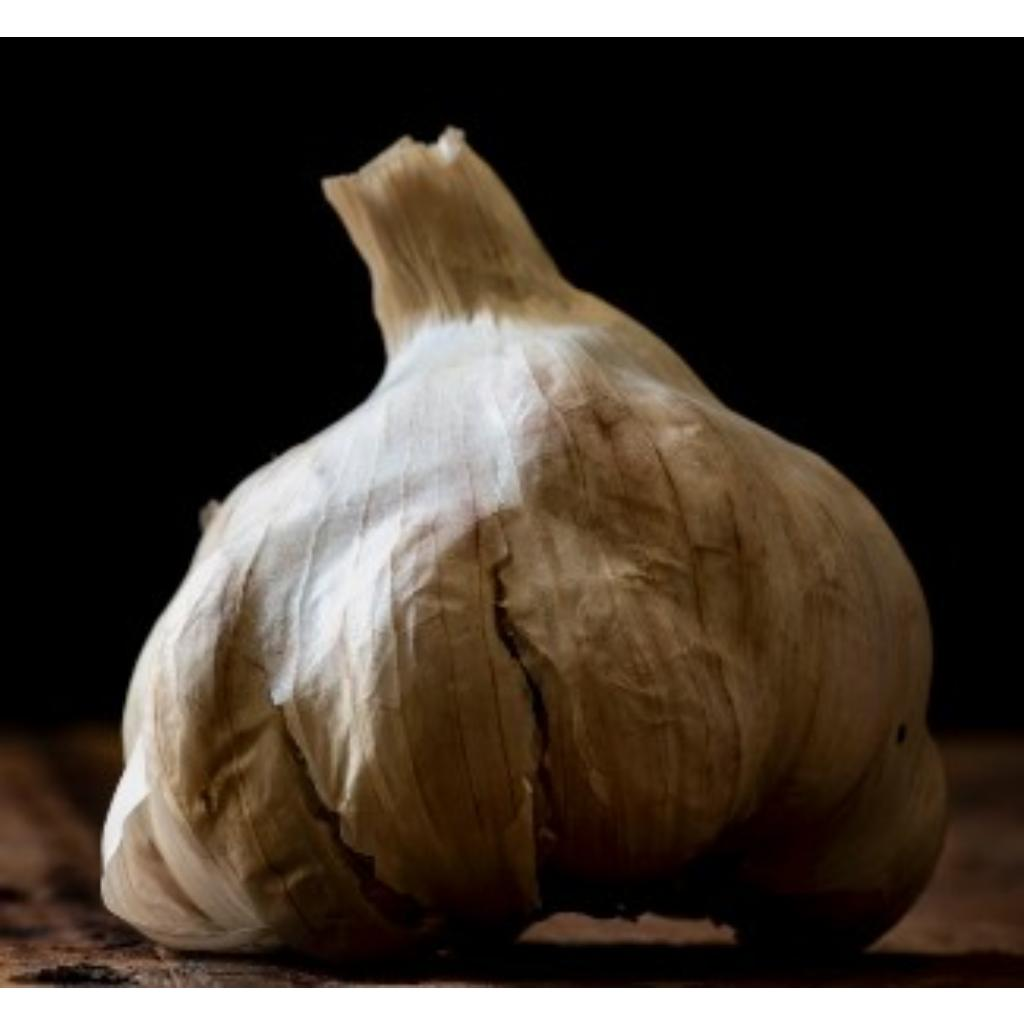garlic: (99, 129, 944, 963)
